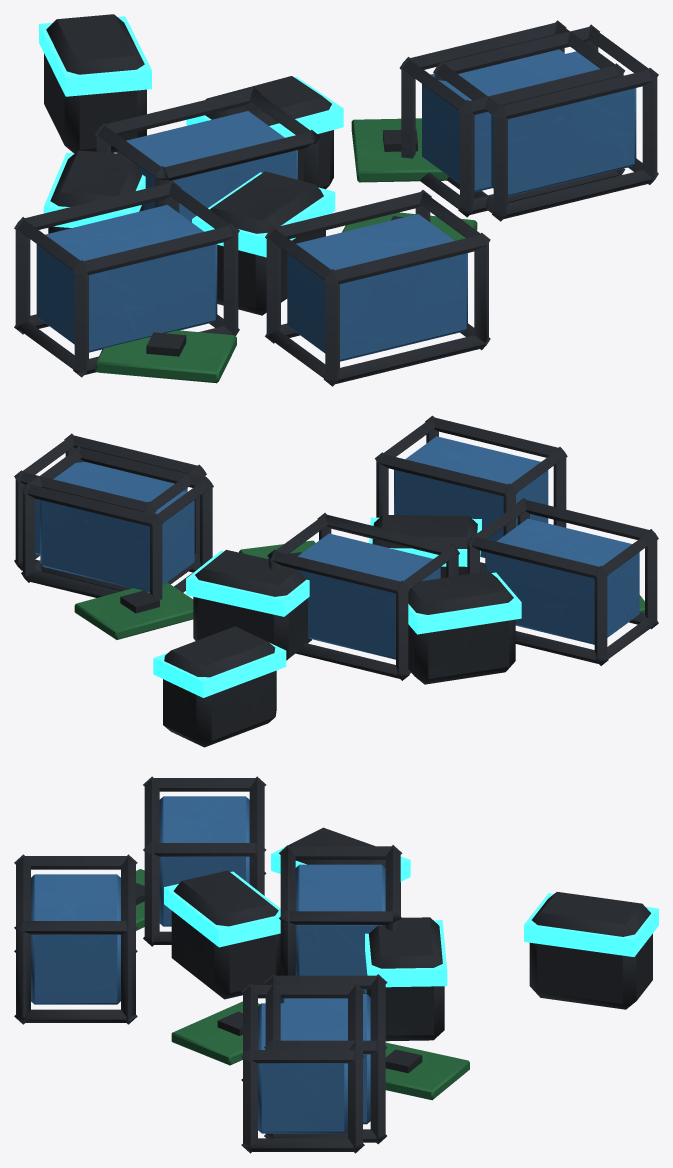
The model's file is cargo_spill_electronics.glb.
The picture shows the model from 3 angles, top to bottom: view 1: azimuth 30°, elevation 25°; view 2: azimuth 150°, elevation 25°; view 3: azimuth 270°, elevation 25°; orthographic projection. The views are drawn at different scales.
Parts seen in each view (by area): view 1: cargo_spill_electronics; view 2: cargo_spill_electronics; view 3: cargo_spill_electronics.
Part boxes in pixels (<box>): cargo_spill_electronics: <box>14,14,658,386</box>; cargo_spill_electronics: <box>14,415,658,747</box>; cargo_spill_electronics: <box>14,776,658,1153</box>.
Size of the model in its own units: 1.76 by 0.31 by 1.72.
Materials: 4 (3 with a texture image).
